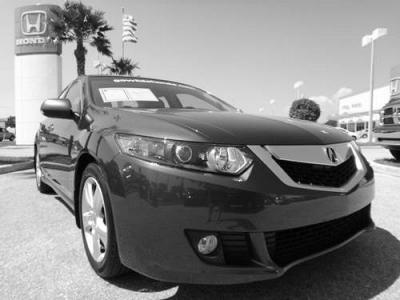car: (34, 75, 375, 295)
